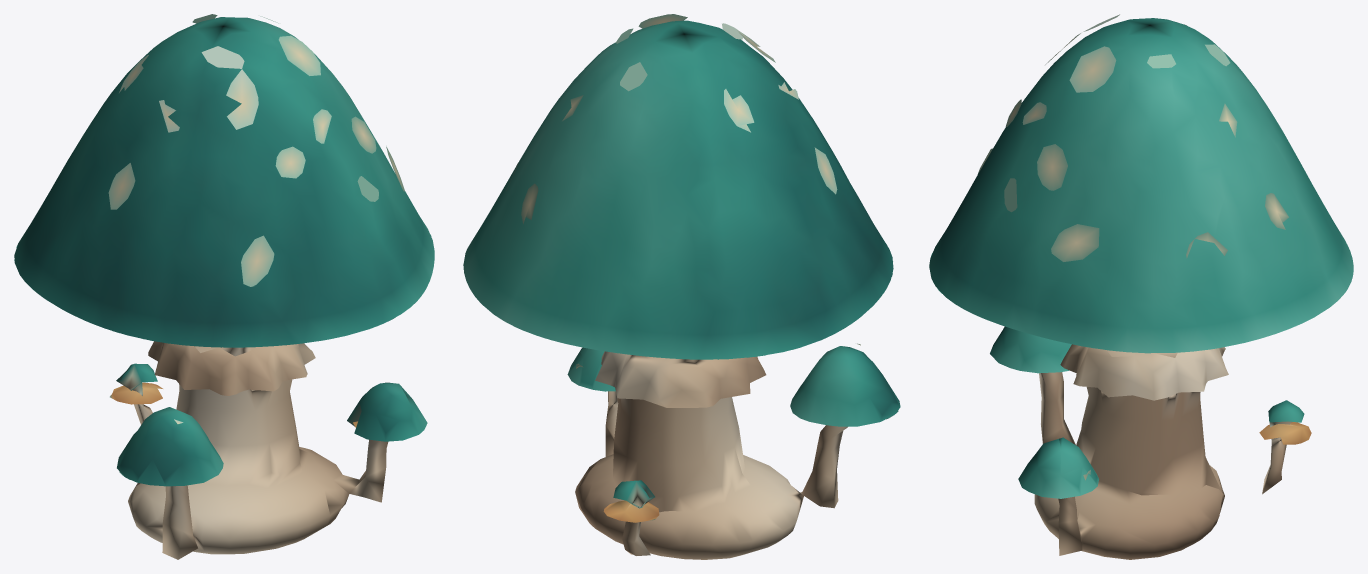
File: magic_mushrooms.glb
The picture shows the model from 3 angles, left to right: view 1: azimuth 30°, elevation 25°; view 2: azimuth 150°, elevation 25°; view 3: azimuth 270°, elevation 25°; orthographic projection. The views are drawn at different scales.
Parts seen in each view (by area): view 1: magic_mushrooms, Glow; view 2: magic_mushrooms, Glow; view 3: magic_mushrooms, Glow.
Boxes of the visible parts, left/top/right/bottom form: magic_mushrooms: left=14, top=17, right=434, bottom=559; Glow: left=14, top=14, right=431, bottom=486; magic_mushrooms: left=463, top=20, right=900, bottom=559; Glow: left=506, top=14, right=898, bottom=522; magic_mushrooms: left=929, top=18, right=1353, bottom=559; Glow: left=931, top=14, right=1353, bottom=480.
Size of the model in its own units: 4.18 by 5.51 by 4.18.
